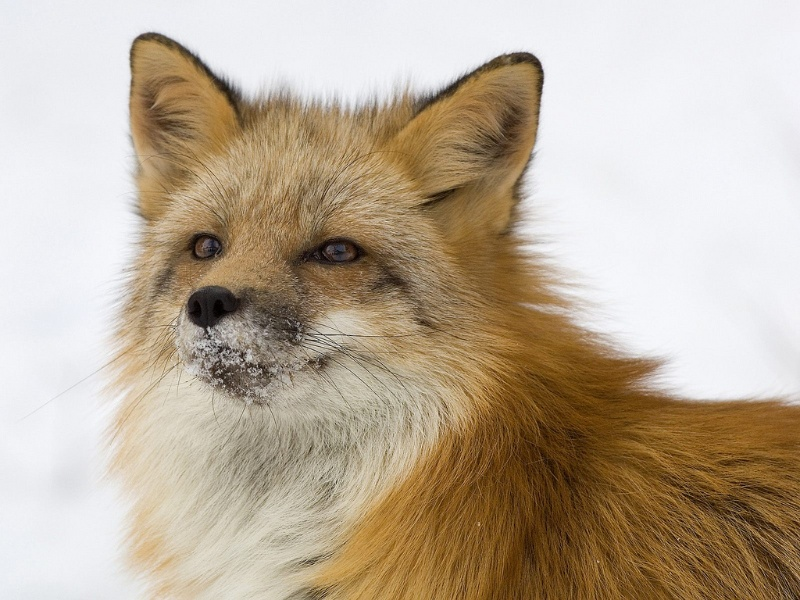fox: (88, 26, 800, 599)
